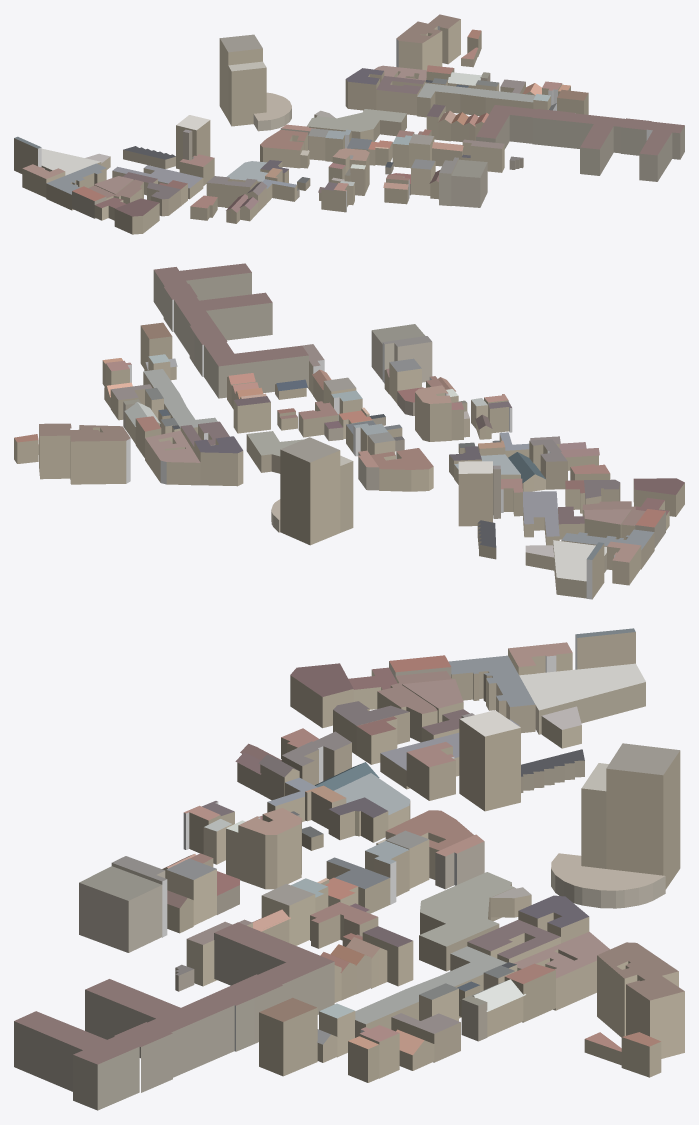
3 renders of one model, top to bottom at view 1: azimuth 30°, elevation 25°; view 2: azimuth 150°, elevation 25°; view 3: azimuth 270°, elevation 25°, orthographic. The views are drawn at different scales.
Parts seen in each view (by area): view 1: tuile; view 2: tuile; view 3: tuile.
Part boxes in pixels (box(x1,y1,x2,y2)): tuile: box(14, 14, 684, 234); tuile: box(14, 263, 684, 599); tuile: box(14, 628, 684, 1110).
Bounding box in the file's own units: 277 × 35.18 × 176.
